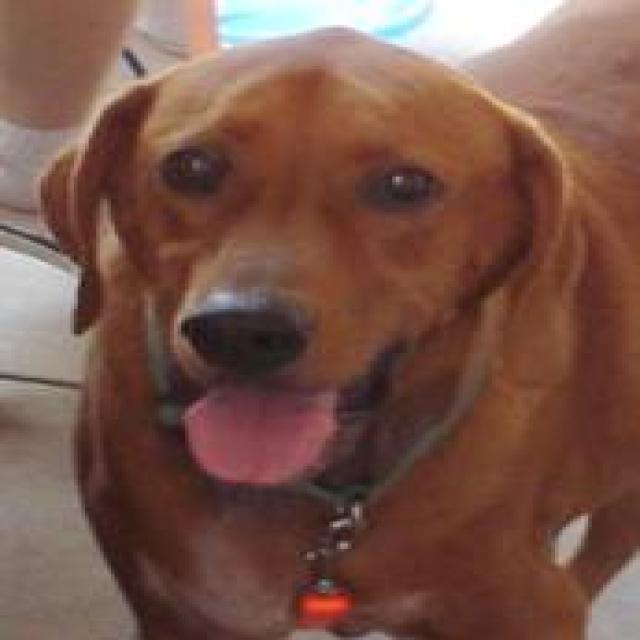dog: (34, 0, 636, 637)
